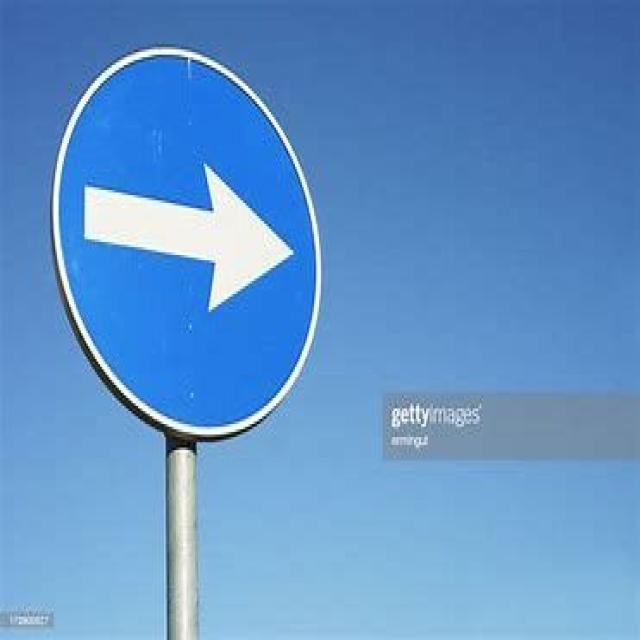COMPULSARY_TURN_RIGHT: (53, 45, 322, 445)
